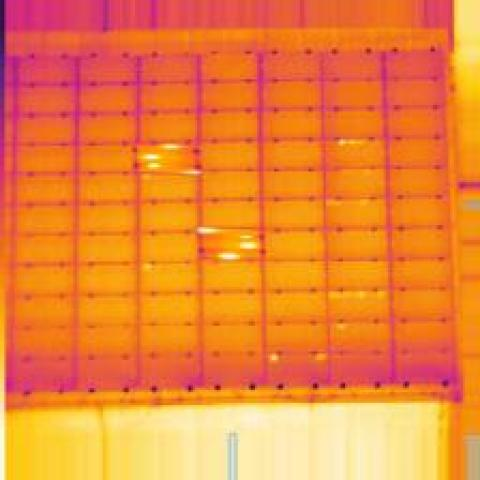fault: (324, 287, 390, 298), (210, 248, 242, 264), (334, 135, 371, 148), (150, 139, 191, 150), (193, 223, 225, 236), (234, 240, 264, 251), (176, 165, 204, 176), (263, 350, 283, 364), (137, 150, 161, 161), (311, 349, 328, 362), (236, 231, 257, 240), (137, 259, 154, 270), (330, 319, 347, 330), (144, 161, 160, 169)
